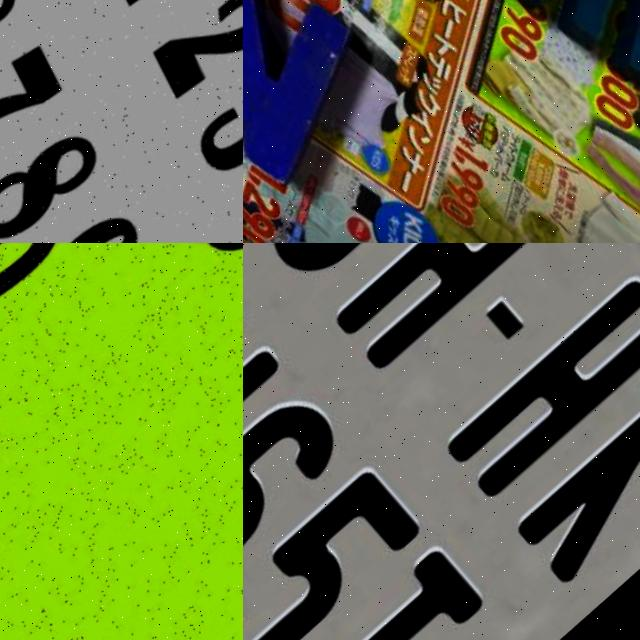0: (0, 243, 118, 399)
1: (66, 0, 243, 67)
2: (112, 0, 243, 146)
3: (154, 19, 243, 230)
4: (201, 99, 243, 243)
5: (243, 462, 427, 640)
6: (243, 381, 357, 628), (249, 243, 504, 298)
7: (0, 0, 104, 218)
8: (0, 74, 157, 243)
9: (0, 159, 193, 243)
H: (438, 280, 640, 510), (335, 243, 578, 379)
K: (507, 362, 640, 600)
M: (447, 0, 640, 128)
N: (243, 0, 395, 207)
T: (246, 543, 493, 640)
